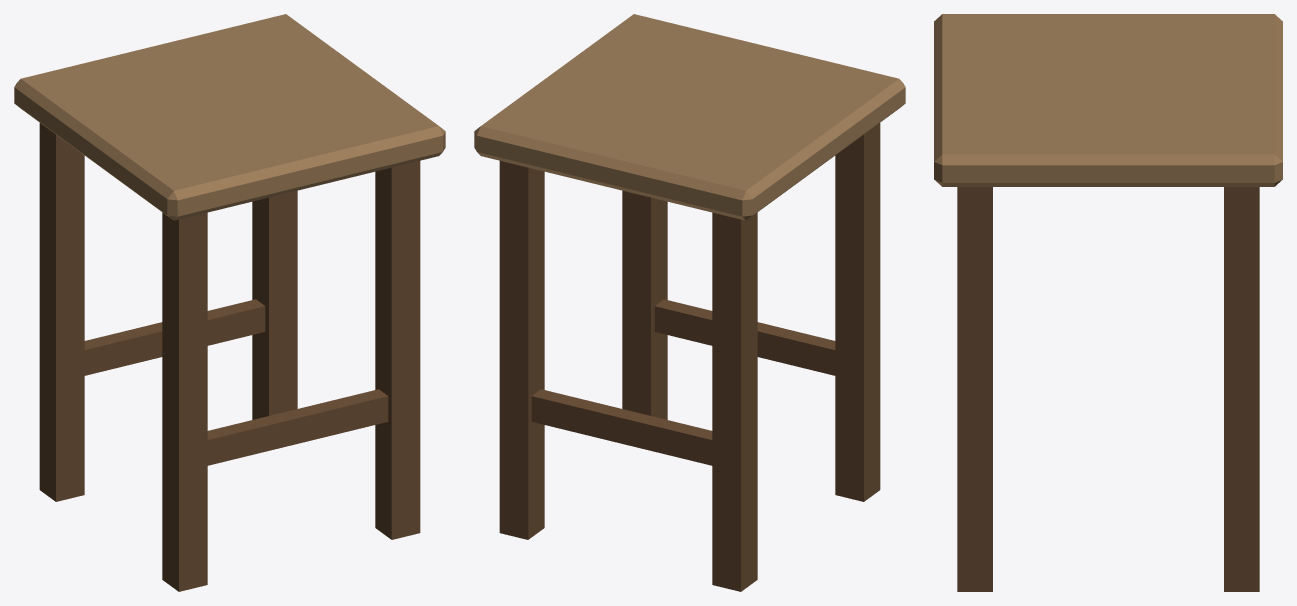
File: stool.glb
3 renders of one model, left to right at view 1: azimuth 30°, elevation 25°; view 2: azimuth 150°, elevation 25°; view 3: azimuth 270°, elevation 25°, orthographic. The views are drawn at different scales.
Visible parts, largest first — view 1: Stool; view 2: Stool; view 3: Stool.
Part boxes in pixels (box(x1,y1,x2,y2)): Stool: box(14, 14, 445, 591); Stool: box(474, 14, 905, 591); Stool: box(934, 14, 1282, 591).
Size of the model in its own units: 0.34 by 0.4775 by 0.34.
